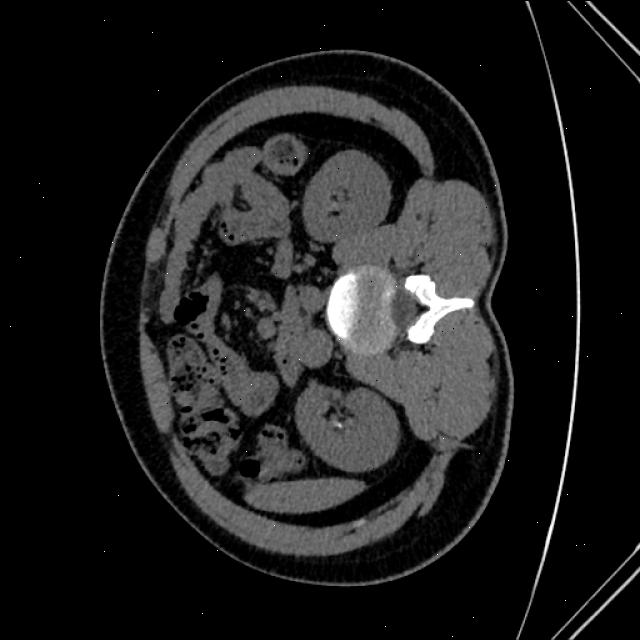kidneystone: (334, 421, 344, 431)
